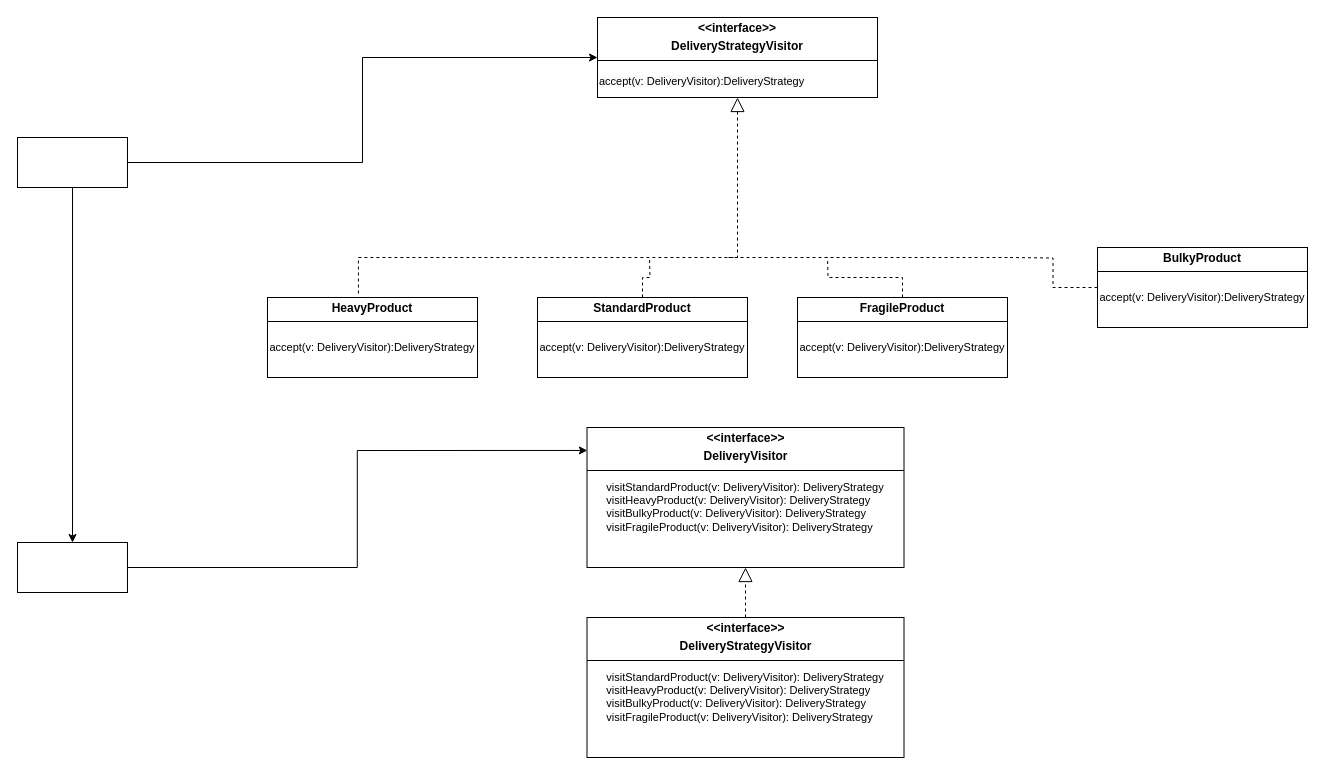
This 1325x775 diagram has some shape labels left out. Here are the shapes that lost their labels. From the top down, the centre of each, then its label:
At [72,162]: "Client".
At [72,567]: "ObjectStructure".
